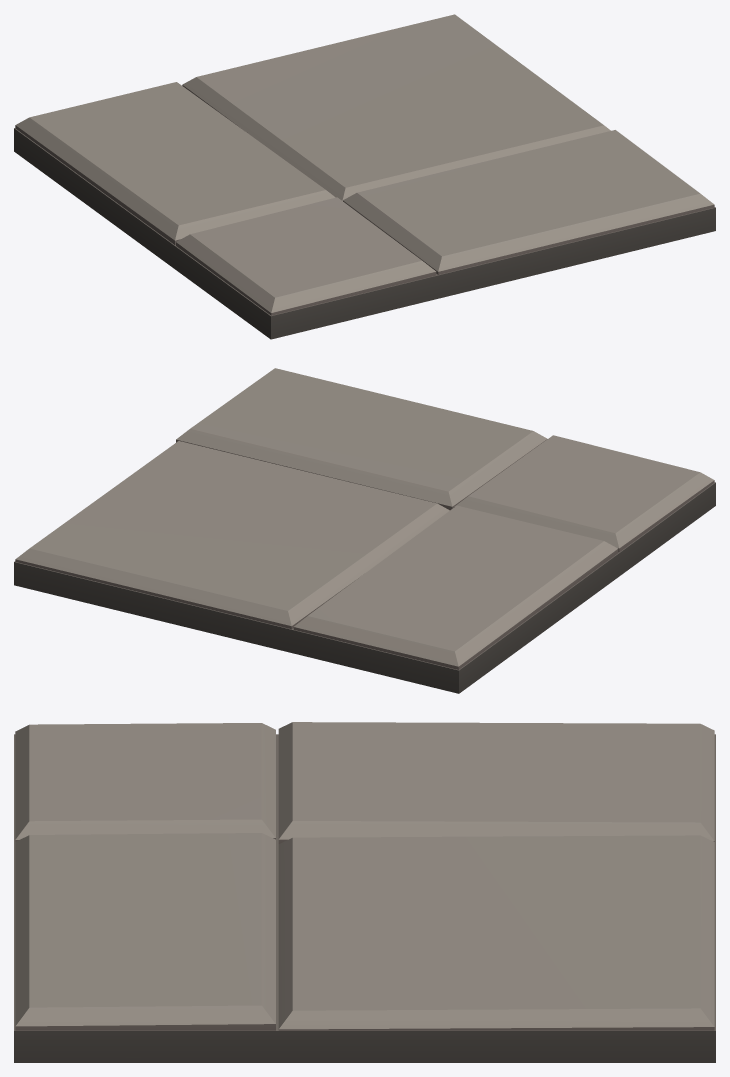
The model's file is floor_flagstones_small_D.glb.
The picture shows the model from 3 angles, top to bottom: view 1: azimuth 30°, elevation 25°; view 2: azimuth 150°, elevation 25°; view 3: azimuth 270°, elevation 25°; orthographic projection. The views are drawn at different scales.
Parts seen in each view (by area): view 1: Item; view 2: Item; view 3: Item.
Part boxes in pixels (box(x1,y1,x2,y2)): Item: box(14, 14, 715, 339); Item: box(14, 368, 715, 693); Item: box(14, 722, 715, 1062).
Bounding box in the file's own units: 2 × 0.1617 × 2.
Materials: 1 (1 with a texture image).
